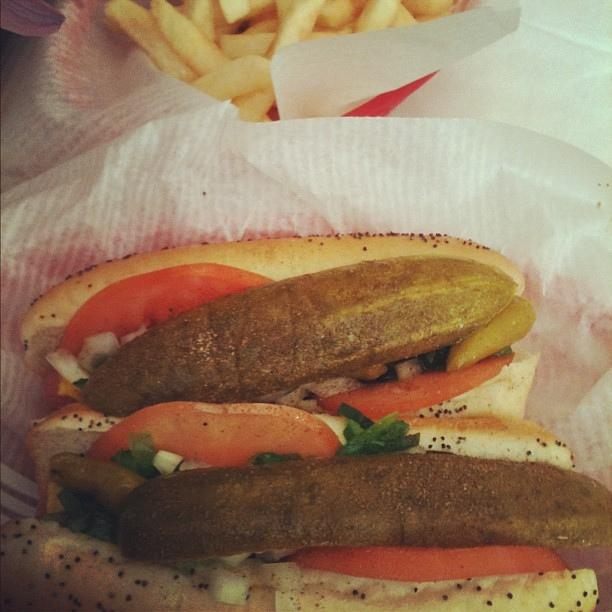onion: (25, 326, 65, 379), (298, 375, 372, 399), (79, 332, 120, 373), (208, 568, 250, 606), (257, 562, 303, 590), (274, 382, 316, 407), (335, 362, 387, 381), (153, 450, 185, 475), (120, 322, 148, 348), (394, 357, 424, 380), (212, 552, 253, 566), (180, 458, 215, 471), (297, 400, 318, 413)
tomato: (43, 262, 277, 415), (85, 402, 342, 468), (319, 352, 515, 422), (291, 544, 570, 582)
